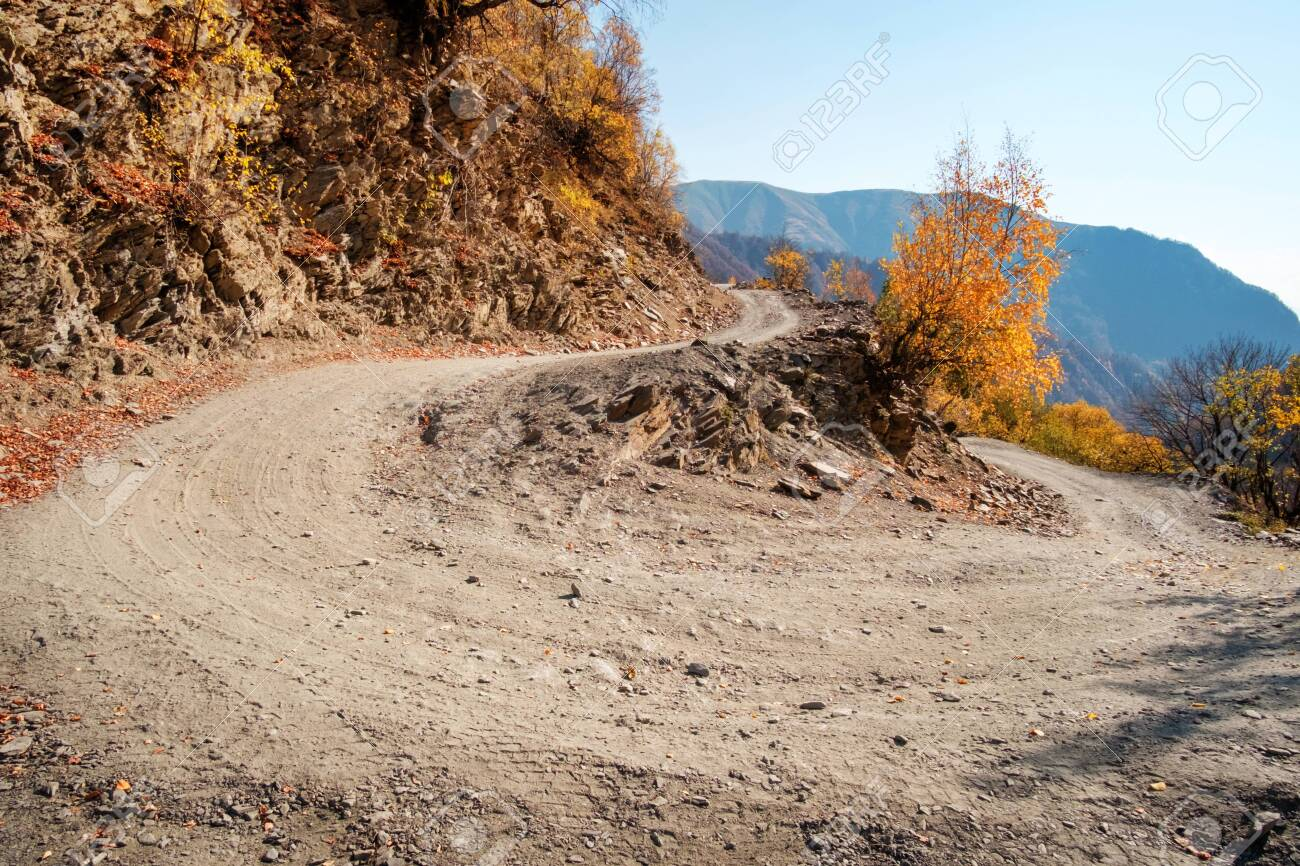rightTrun: (99, 327, 658, 781)
